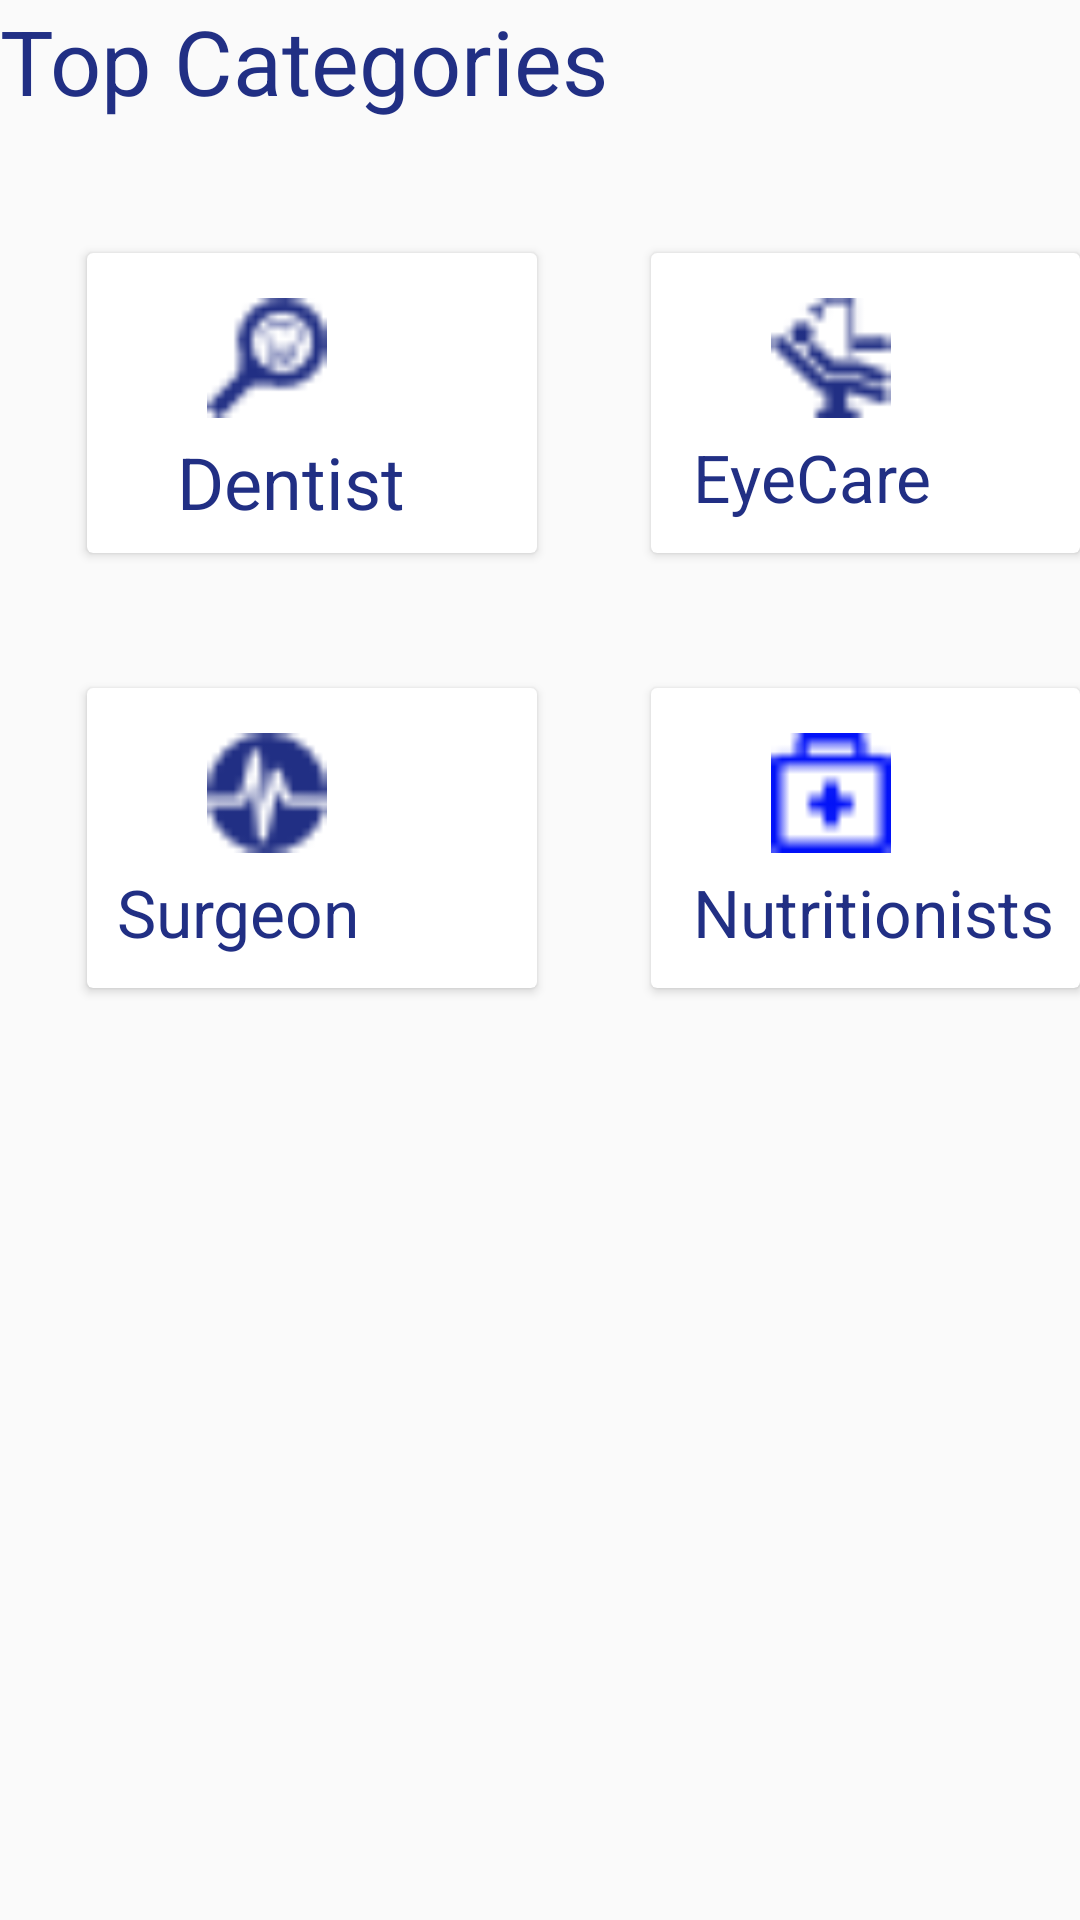

Where to tap for icons on this 1080px×1920px app screen, as (x,y):
kit: (831,793)
